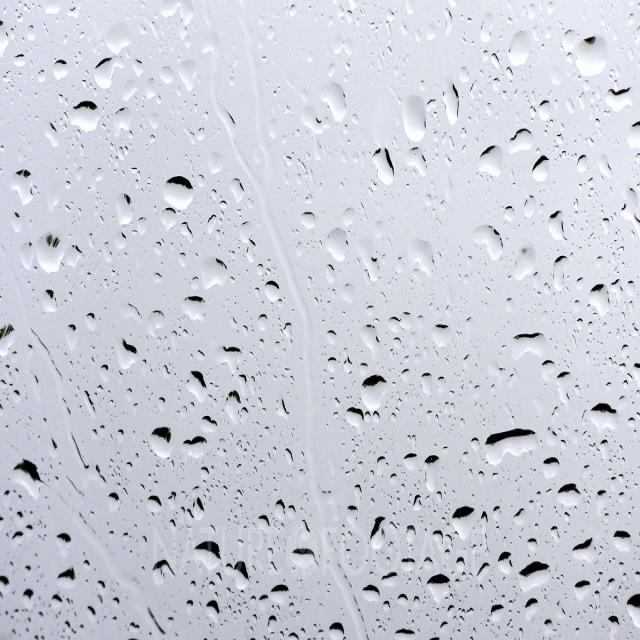raindrop: (561, 25, 615, 100), (481, 422, 549, 474), (499, 20, 542, 83), (399, 82, 436, 152), (9, 450, 51, 510), (466, 216, 509, 274), (582, 390, 624, 448), (158, 158, 202, 213), (355, 361, 395, 418), (67, 88, 105, 146), (581, 274, 617, 331), (317, 80, 355, 134), (92, 46, 130, 100), (505, 231, 540, 289), (506, 321, 551, 366), (514, 555, 558, 601), (368, 137, 401, 197), (31, 226, 67, 279), (472, 130, 507, 184), (502, 114, 540, 161), (195, 242, 233, 289), (324, 213, 353, 274), (110, 184, 142, 238), (147, 416, 177, 473), (287, 536, 323, 582), (114, 334, 147, 384), (546, 247, 576, 300), (221, 382, 251, 433), (418, 443, 443, 504), (10, 160, 40, 210), (450, 493, 478, 546), (180, 428, 212, 474), (183, 358, 210, 412), (522, 148, 555, 192), (192, 532, 224, 576), (548, 482, 588, 517), (262, 574, 295, 616), (427, 566, 454, 608), (231, 558, 254, 604), (369, 508, 389, 560), (624, 588, 640, 640), (326, 606, 350, 640)
